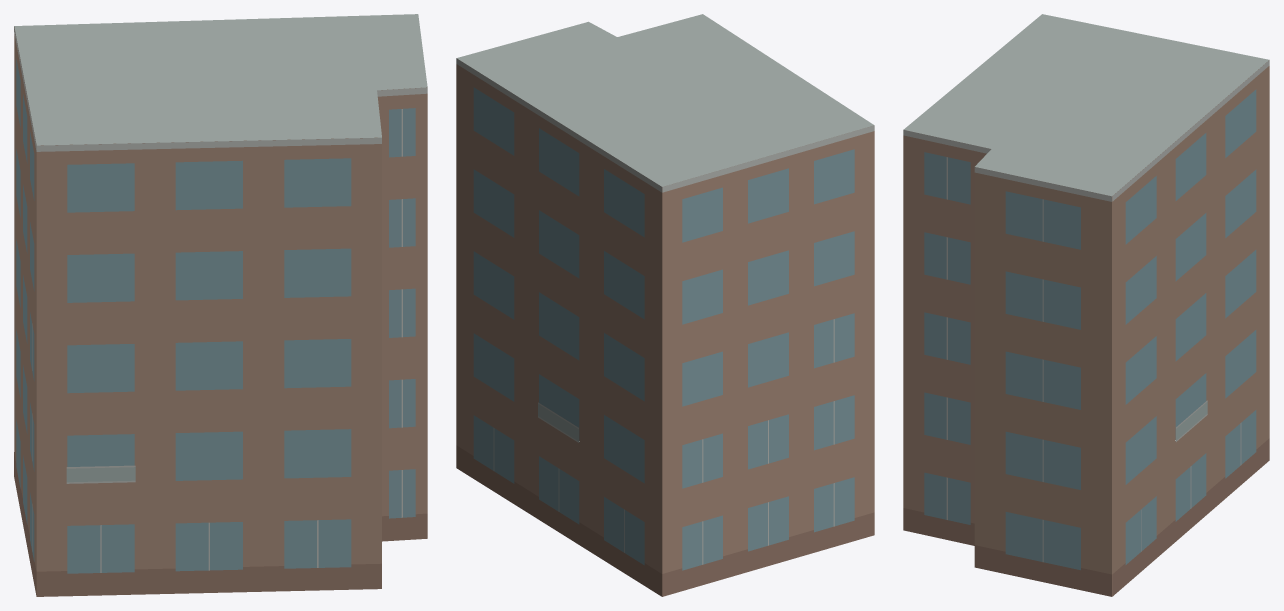
The model's file is survey-upis-32886153.glb.
3 views of the same model, side by side, from view 1: azimuth 30°, elevation 25°; view 2: azimuth 150°, elevation 25°; view 3: azimuth 270°, elevation 25° (orthographic). The views are drawn at different scales.
Parts seen in each view (by area): view 1: survey-upis-32886153.tmp; view 2: survey-upis-32886153.tmp; view 3: survey-upis-32886153.tmp.
Boxes of the visible parts, x1=… form: survey-upis-32886153.tmp: x1=14, y1=14, x2=427, y2=596; survey-upis-32886153.tmp: x1=456, y1=14, x2=874, y2=596; survey-upis-32886153.tmp: x1=903, y1=14, x2=1269, y2=596.
Bounding box in the file's own units: 16.9 × 17.3 × 14.34.
